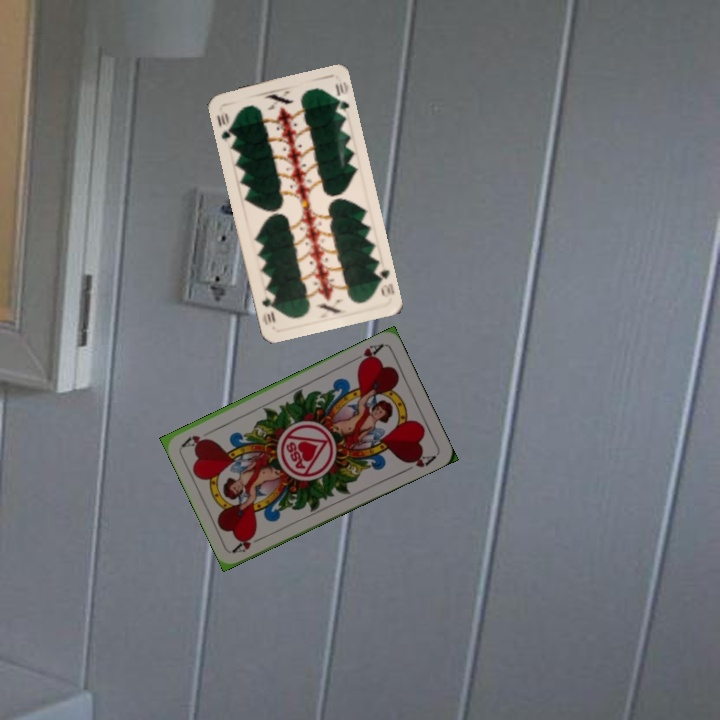G10: (371, 262, 397, 300), (213, 109, 237, 145)
HA: (348, 340, 386, 368), (229, 530, 268, 556)
